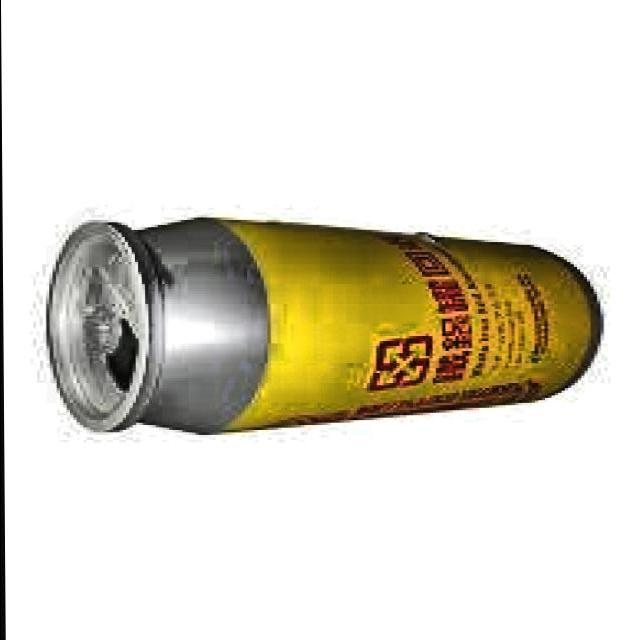litter: (34, 211, 619, 446)
